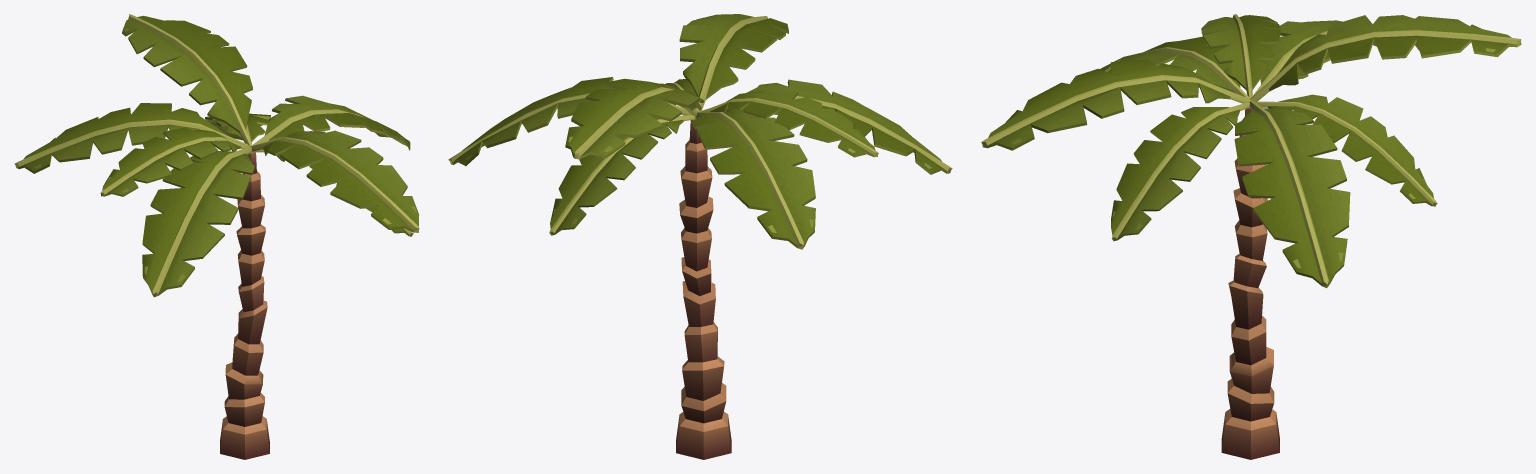
Rendered from PalmTree.fbx.
The picture shows the model from 3 angles, left to right: view 1: azimuth 30°, elevation 25°; view 2: azimuth 150°, elevation 25°; view 3: azimuth 270°, elevation 25°; orthographic projection. The views are drawn at different scales.
Parts seen in each view (by area): view 1: polySurface1; view 2: polySurface1; view 3: polySurface1.
Boxes of the visible parts, left/top/right/bottom form: polySurface1: left=14, top=14, right=419, bottom=459; polySurface1: left=448, top=14, right=952, bottom=459; polySurface1: left=981, top=14, right=1521, bottom=459.
Size of the model in its own units: 22.22 by 21.3 by 24.93.
